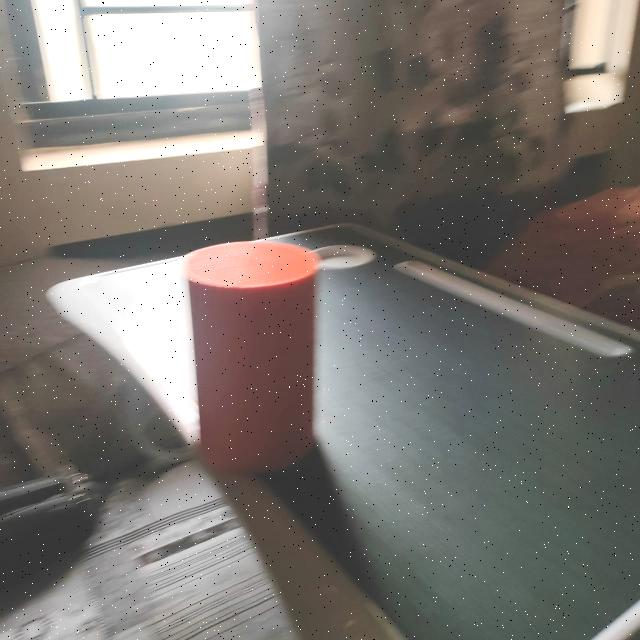Cylinder: (184, 239, 322, 473)
